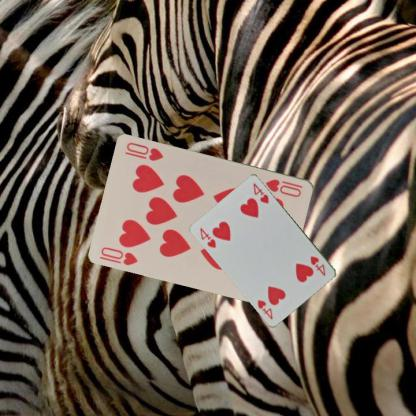10h: (98, 244, 139, 266), (263, 176, 303, 198)
4h: (198, 225, 217, 249), (308, 254, 327, 277)
